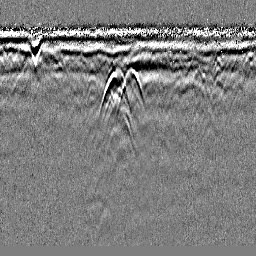cavity: (115, 65, 147, 118)
